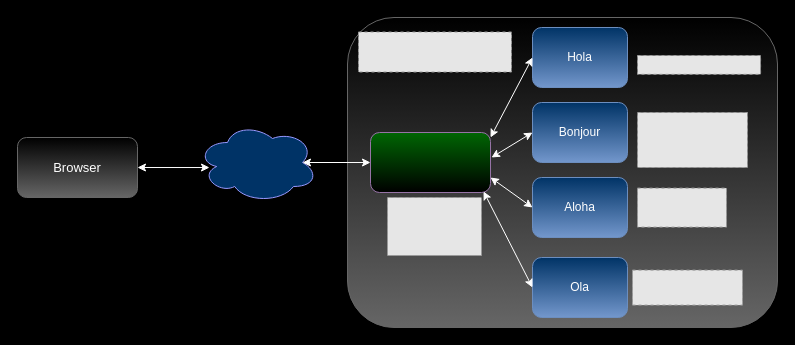
This 795x345 diagram has some shape labels left out. Grey dashed boxes stand in for pictures. Here are the shapes that lost their labels. From the top down, the centre of each, then its label:
the point at 257,162: Internet
the point at 430,162: API Gateway
